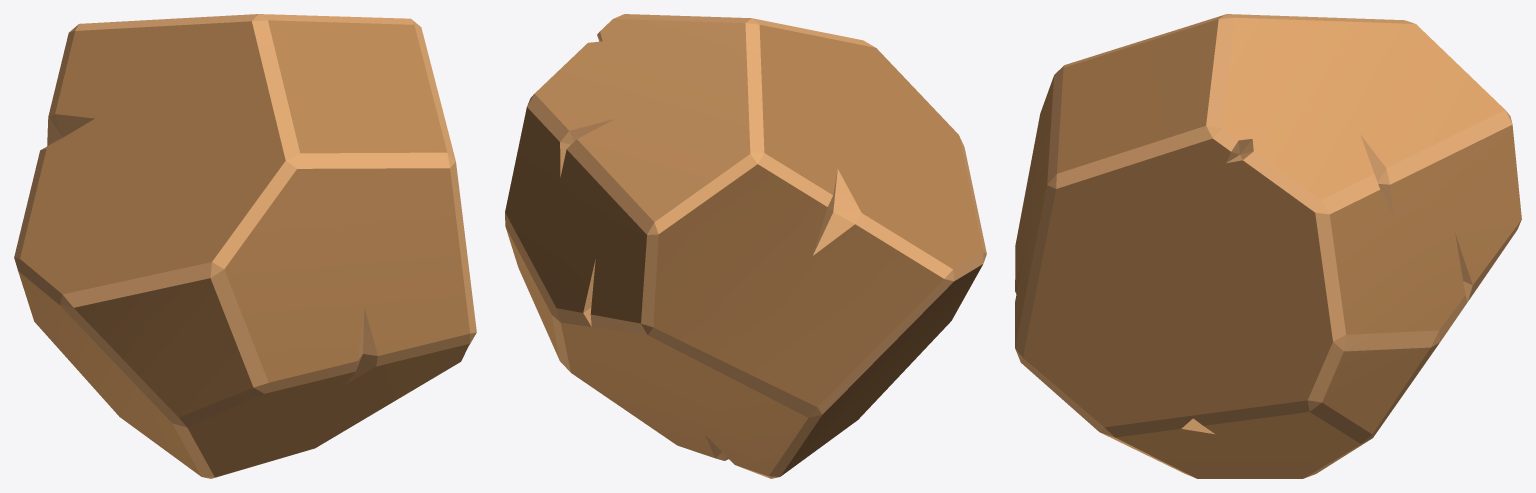
The model's file is RockMesh.fbx.
3 renders of one model, left to right at view 1: azimuth 30°, elevation 25°; view 2: azimuth 150°, elevation 25°; view 3: azimuth 270°, elevation 25°, orthographic. The views are drawn at different scales.
Visible parts, largest first — view 1: RockMesh; view 2: RockMesh; view 3: RockMesh.
Boxes of the visible parts, x1,y1,x2,y2 form: RockMesh: (14, 14, 476, 478); RockMesh: (505, 14, 986, 478); RockMesh: (1015, 14, 1521, 478).
Bounding box in the file's own units: 174 × 165 × 170.
